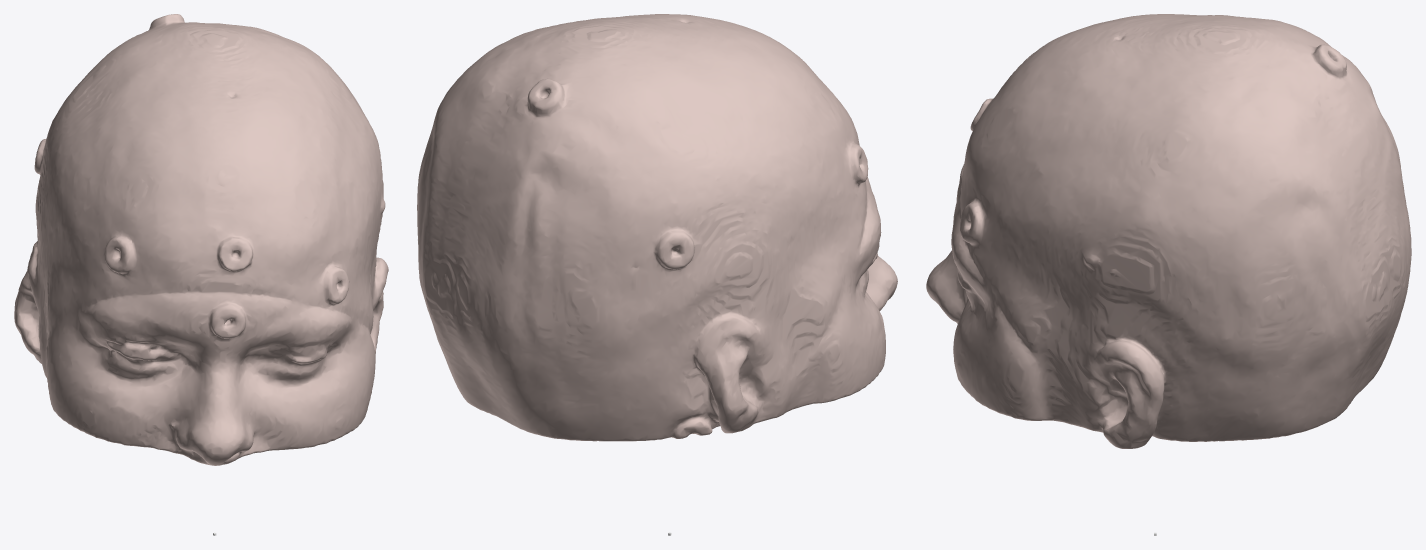
File: Tim.gltf
3 views of the same model, side by side, from view 1: azimuth 30°, elevation 25°; view 2: azimuth 150°, elevation 25°; view 3: azimuth 270°, elevation 25° (orthographic). The views are drawn at different scales.
Visible parts, largest first — view 1: world; view 2: world; view 3: world.
Boxes of the visible parts, left/top/right/bottom form: world: left=14, top=14, right=388, bottom=465; world: left=417, top=14, right=897, bottom=441; world: left=926, top=14, right=1411, bottom=448.
Bounding box in the file's own units: 0.1706 × 0.2232 × 0.1903.
